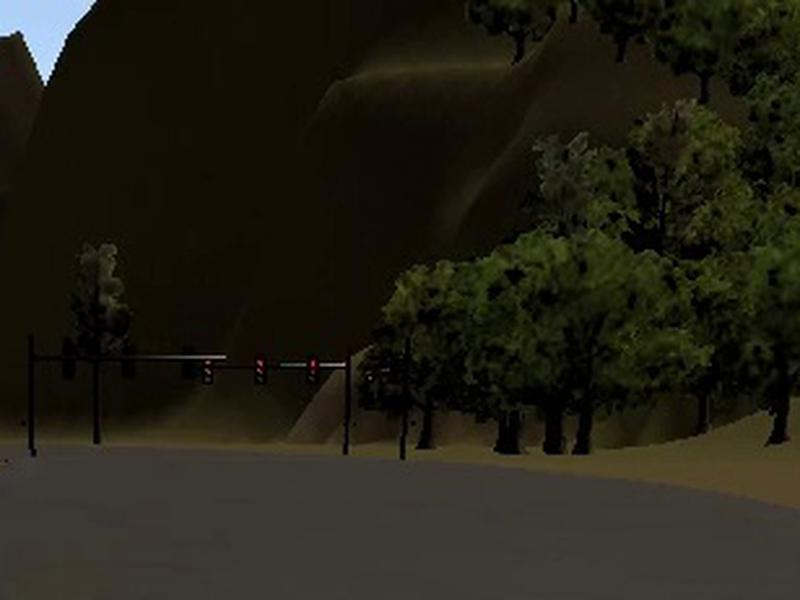Red: (255, 356, 268, 384), (201, 355, 213, 385), (306, 355, 317, 387)
